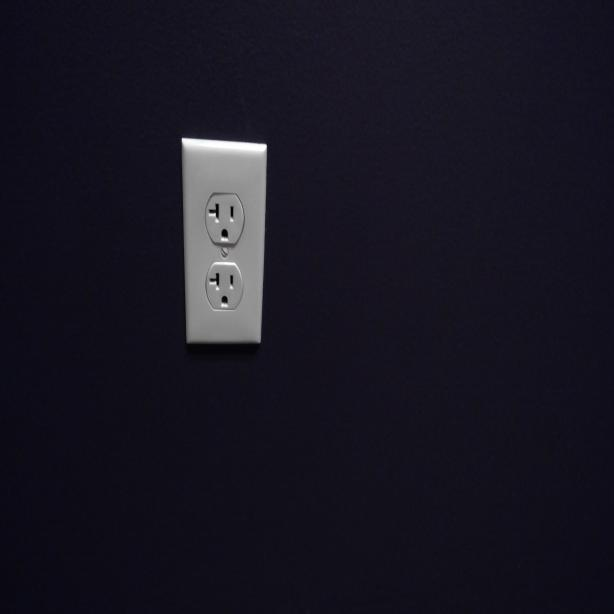typeb: (204, 191, 244, 244), (206, 266, 242, 311)
